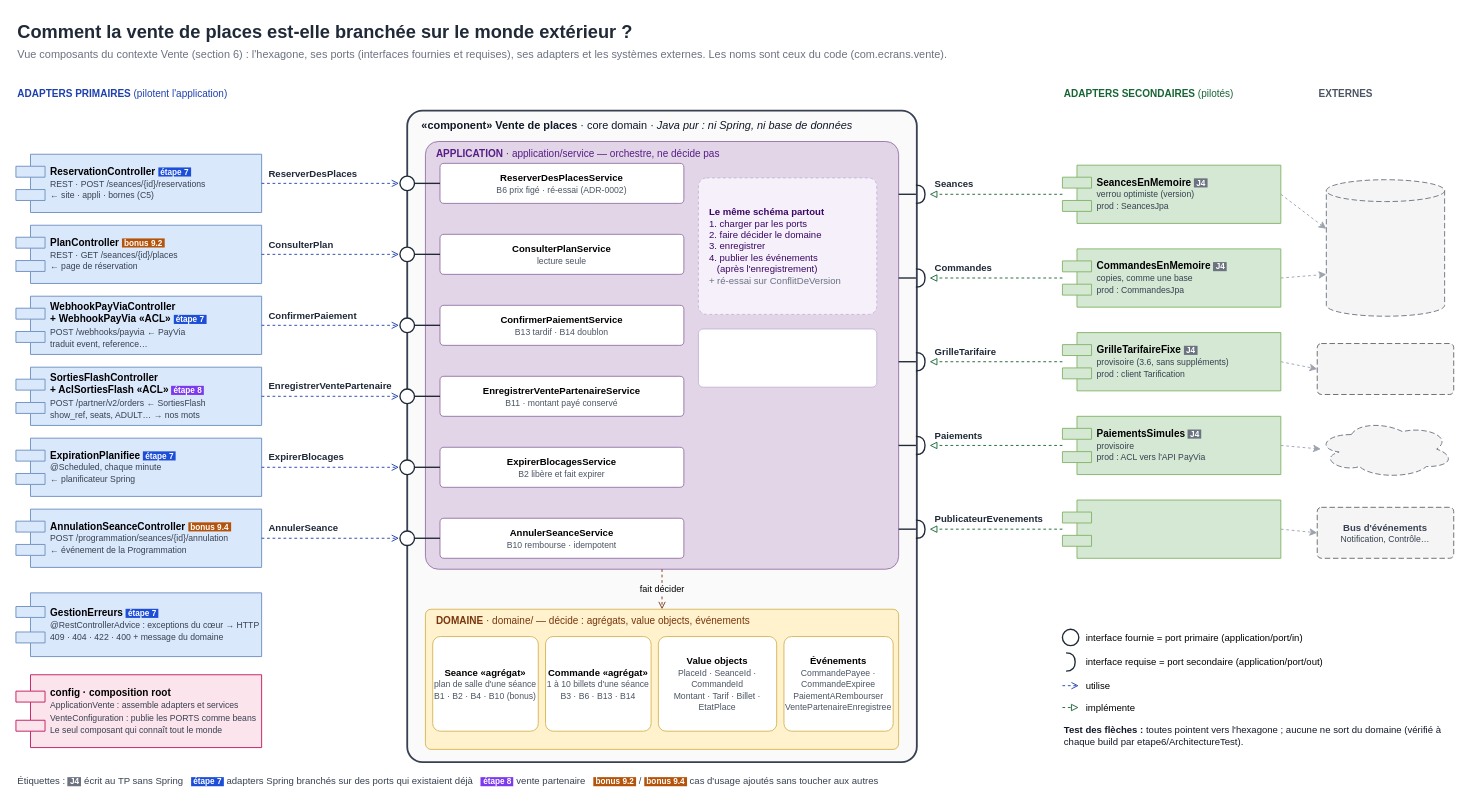
Some shapes in this 1479 by 804 pixel diagram are drawn without their labels. The centre of each missing label's shape, as x and y in pixels:
application/exception SeanceInconnue · CommandeInconnue: [787,357]
PayVia API, contrat 4 ans: [1385,448]
PostgreSQL (C1, en production): [1385,247]
PublicateurEnMemoire J4 provisoire prod : table outbox + bus: [1171,528]
Tarification autre contexte: [1385,368]
